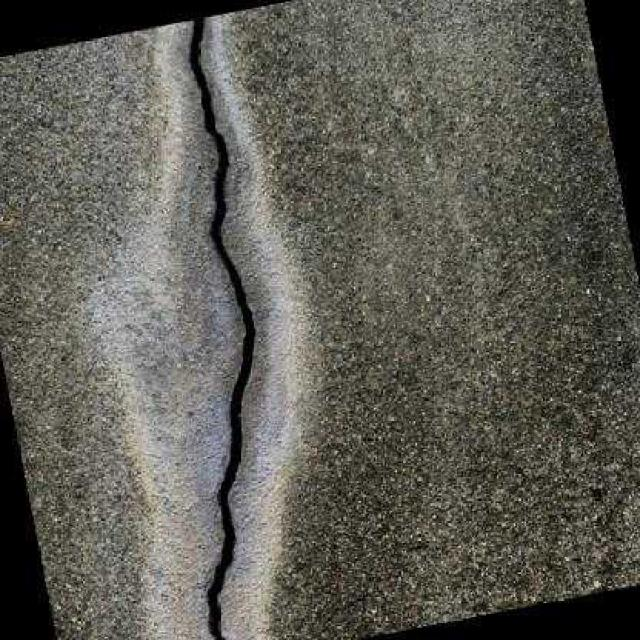D00: (187, 16, 258, 640)
